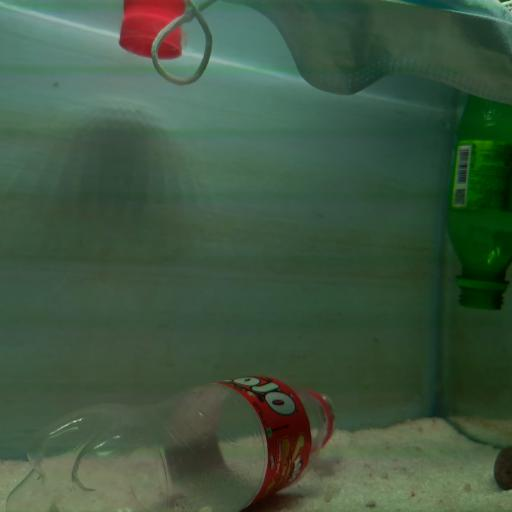bottle_cap: (122, 16, 185, 60)
mask: (153, 0, 512, 107)
plastic_bottle: (10, 370, 342, 512), (444, 74, 512, 314)
